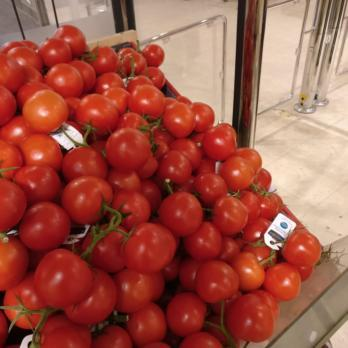Tomato: (0, 36, 147, 348), (149, 95, 209, 348), (201, 127, 256, 342), (275, 208, 310, 297), (252, 190, 274, 325)
